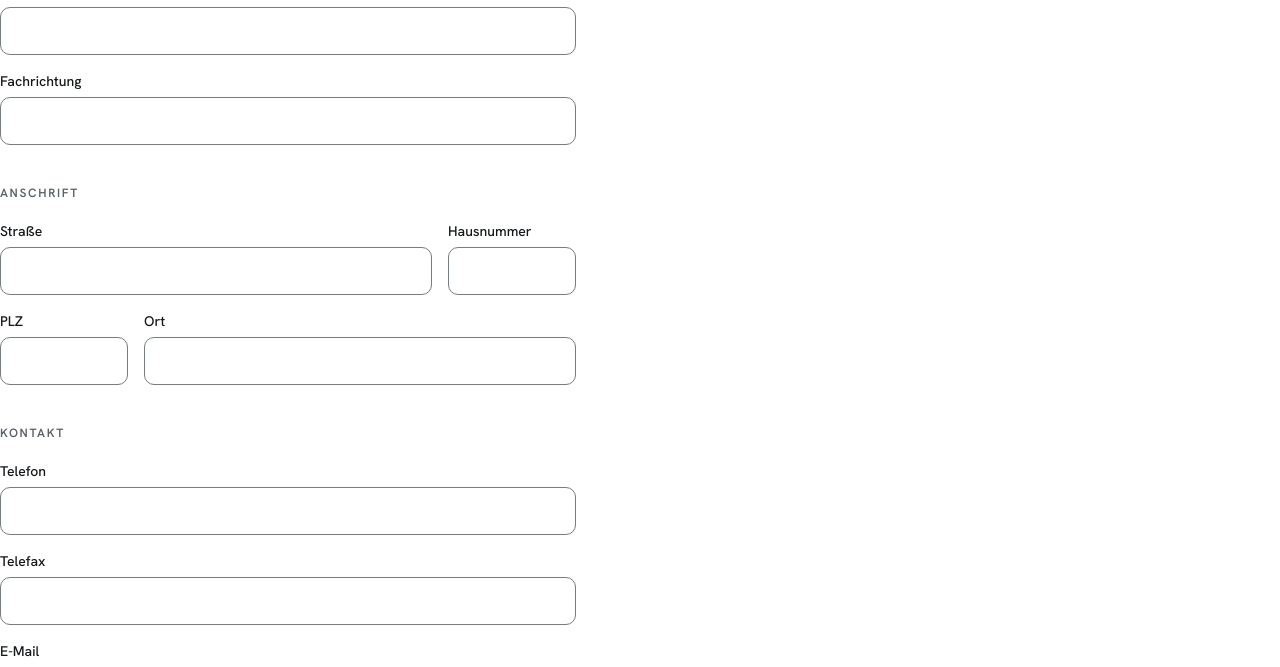
Test: Schutz ungespeicherter Angaben (VER-03) › haelt auch den Rueckweg oben an
This screenshot has width=1280, height=667.
(page scrolled)
Type "Tuebingen" into the field labelled "Ort" at x=360, y=361, box 144,337 -> 576,385
(page scrolled)
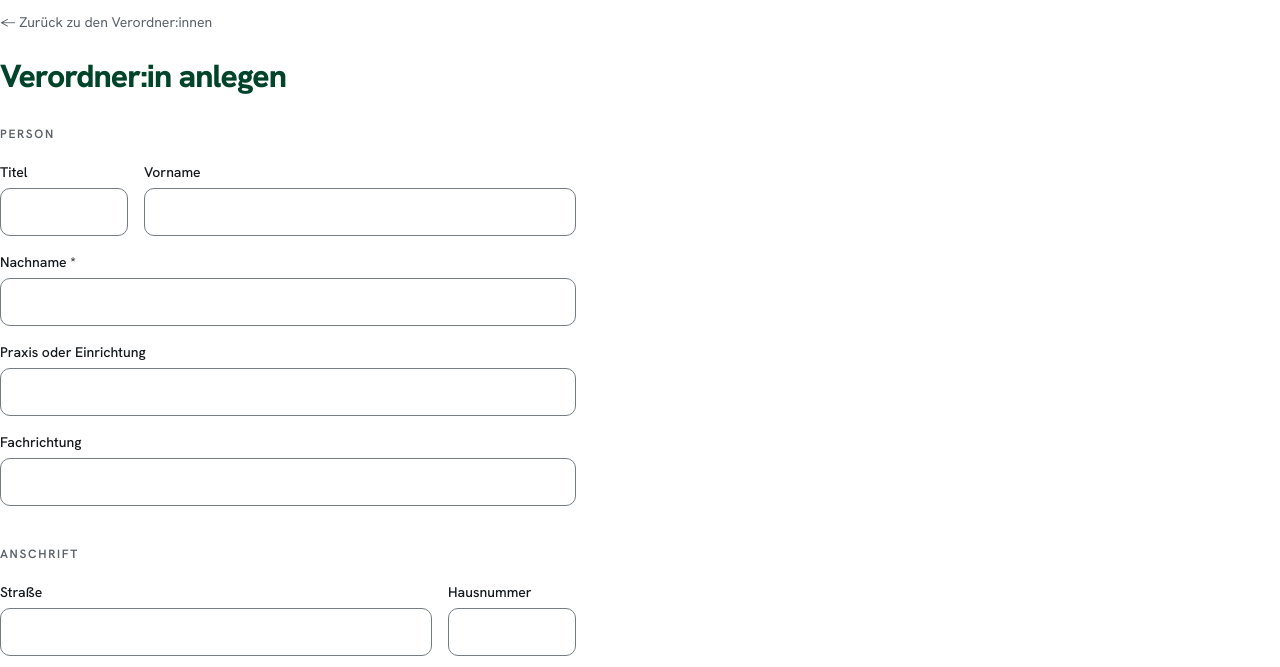
Click the link "← Zurück zu den Verordner:innen" at x=106, y=22, box 0,13 -> 212,31
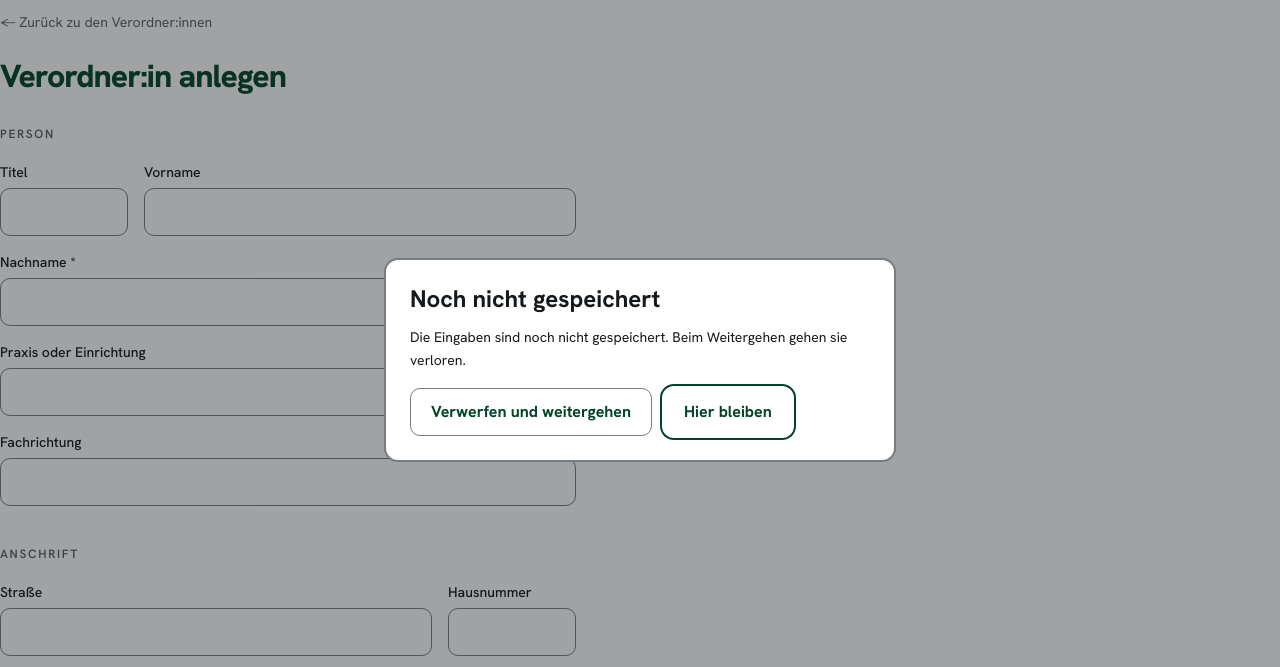
Result: the element named "Ungespeicherte Angaben zur Verordner:in" is shown at 410,326 -> 870,436
